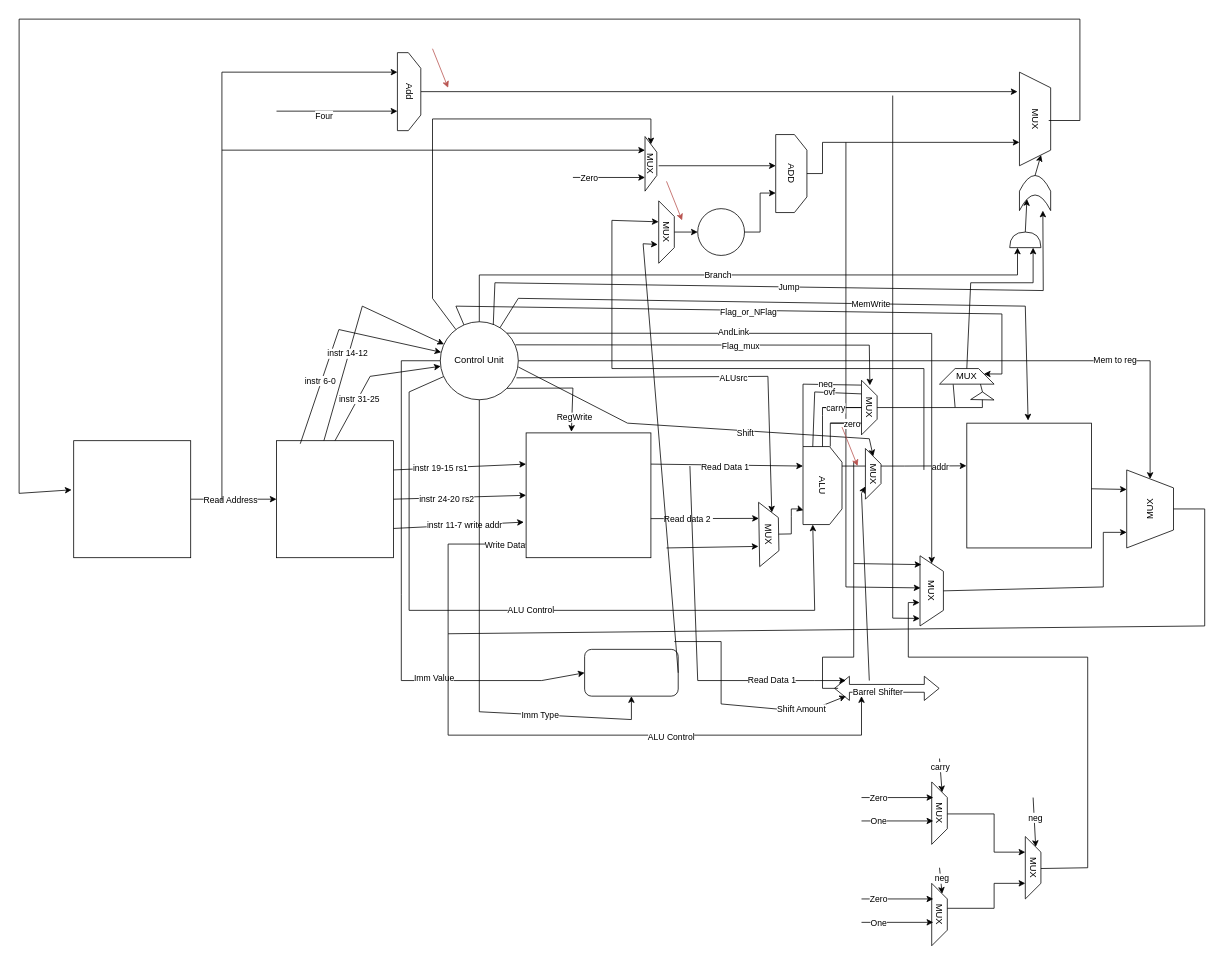
Some shapes in this 1225 by 959 pixel diagram are drawn without their labels. The shapes that lost their labels are listed below. From the top down, each one's centre as x and y in pixels, then its label:
At pixel 1035 193: "OR".
At pixel 721 231: "Shift left 2".
At pixel 1025 239: "AND".
At pixel 132 499: "PC Counter".
At pixel 335 499: "Instruction memory".
At pixel 588 495: "register file".
At pixel 1029 485: "Memory".
At pixel 631 672: "Immediate Generation".
